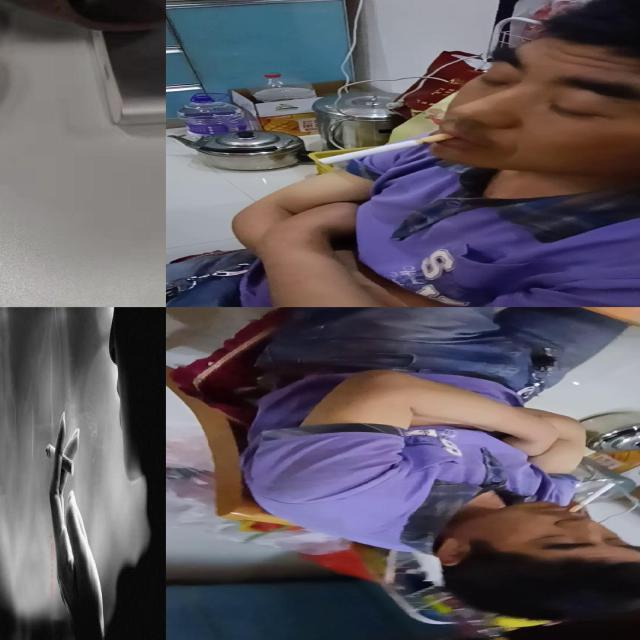smoking: (318, 133, 454, 165), (568, 482, 616, 512), (44, 443, 74, 479)
